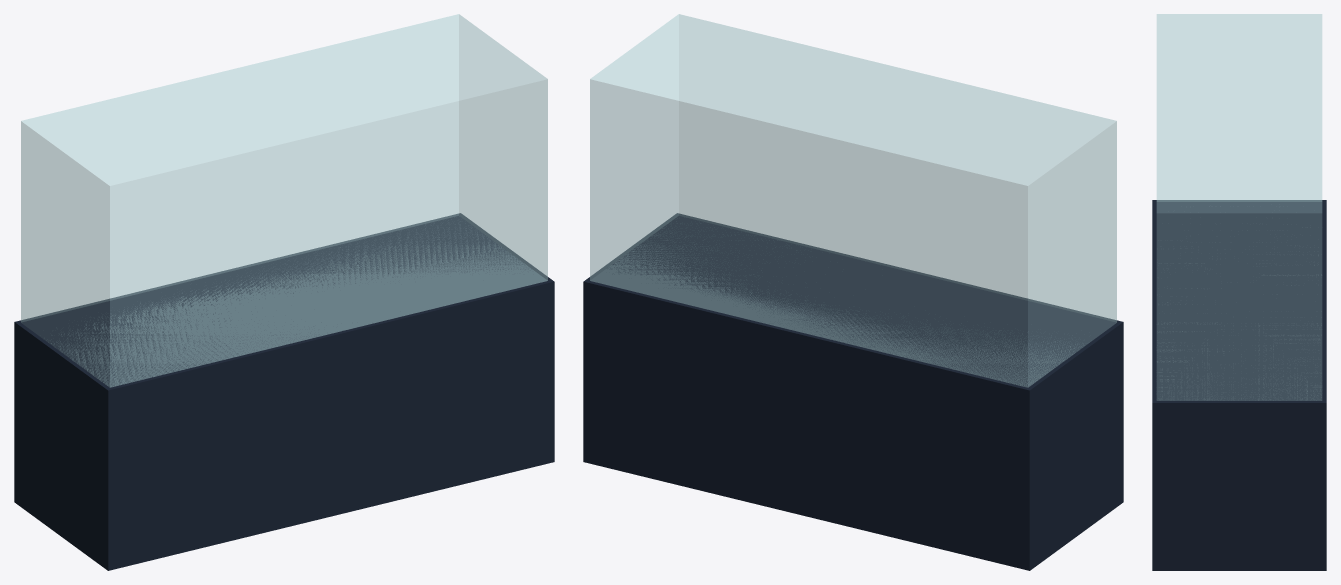
File: electronics.glb
The picture shows the model from 3 angles, left to right: view 1: azimuth 30°, elevation 25°; view 2: azimuth 150°, elevation 25°; view 3: azimuth 270°, elevation 25°; orthographic projection. The views are drawn at different scales.
Visible parts, largest first — view 1: Security_Glass, Cabinet_Base; view 2: Security_Glass, Cabinet_Base; view 3: Cabinet_Base, Security_Glass.
Part boxes in pixels (x1,y1,x2,y2): Security_Glass: (21, 14, 547, 387); Cabinet_Base: (14, 213, 554, 570); Security_Glass: (590, 14, 1116, 387); Cabinet_Base: (583, 213, 1123, 570); Cabinet_Base: (1152, 200, 1326, 570); Security_Glass: (1156, 14, 1322, 400).
Size of the model in its own units: 2.2 by 1.8 by 0.8.
